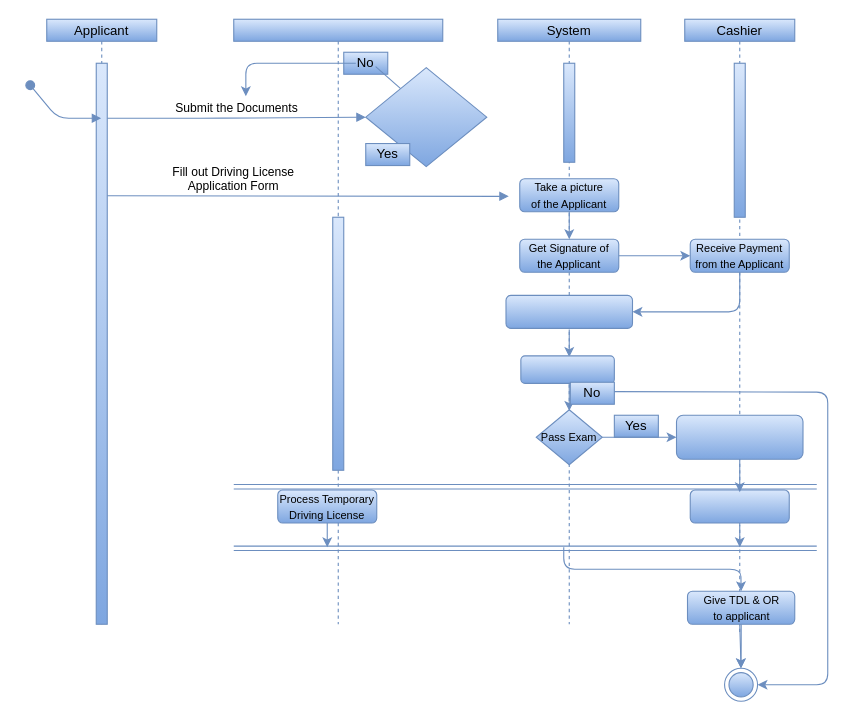
The diagram is 856 pixels wide and 721 high, and some of its shapes have lost their labels. Each missing label, with the box of its shape:
Administer Exam: (520, 355, 614, 383)
Administer Lecture for of the Applicant: (505, 294, 632, 328)
Are Documents Complete & Valid?: (365, 67, 487, 167)
Evaluator: (233, 18, 443, 624)
Process official receipt ( OR ): (689, 489, 789, 523)
Receive another Payment from the Applicant: (675, 414, 803, 459)
